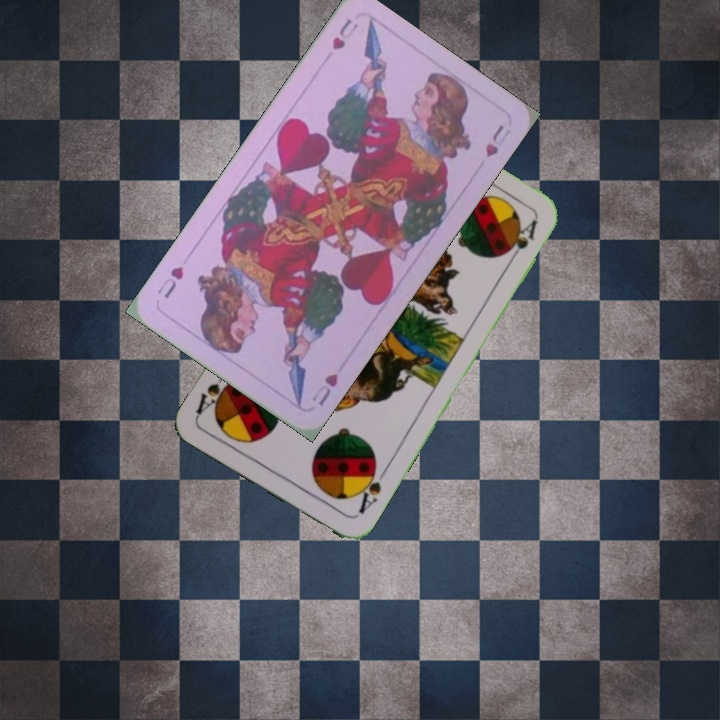HU: (308, 369, 341, 409), (328, 14, 361, 53)
SA: (351, 459, 390, 517)
